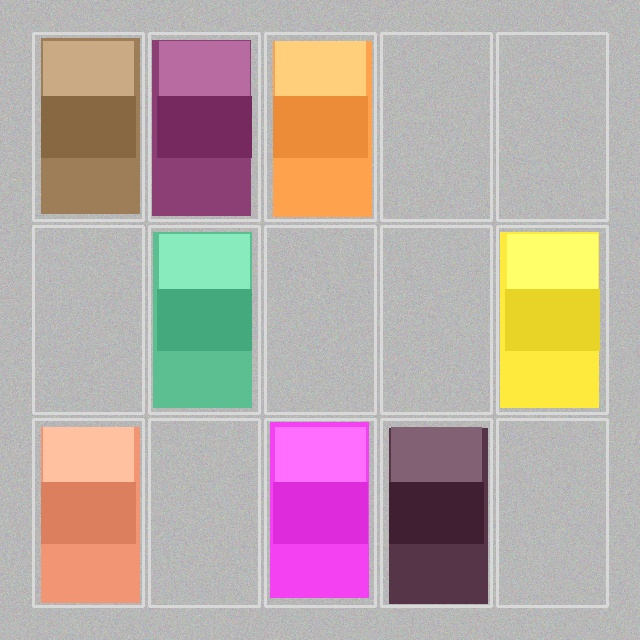space-empty: (383, 35, 489, 218), (499, 35, 605, 218), (35, 228, 141, 411), (267, 228, 373, 411), (383, 228, 489, 411), (151, 421, 257, 604), (499, 421, 605, 604)
space-occupied: (35, 35, 141, 218), (151, 35, 257, 218), (267, 35, 373, 218), (151, 228, 257, 411), (499, 228, 605, 411), (35, 421, 141, 604), (267, 421, 373, 604), (383, 421, 489, 604)
